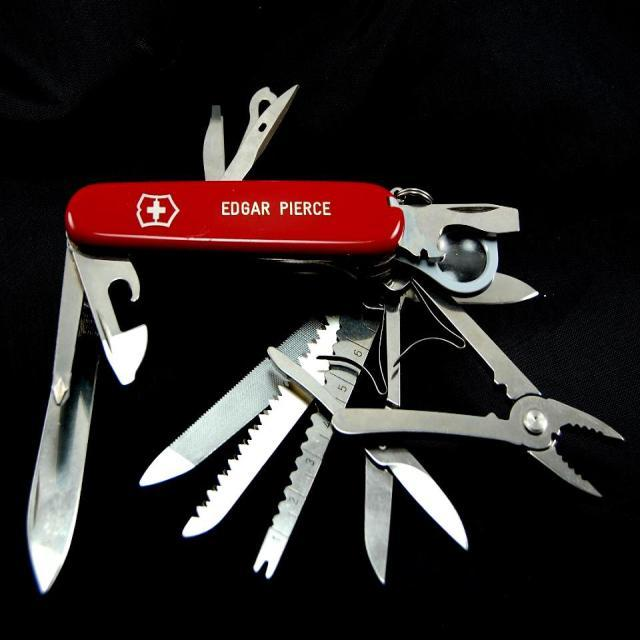Knife: (28, 89, 621, 592), (365, 445, 466, 581)
